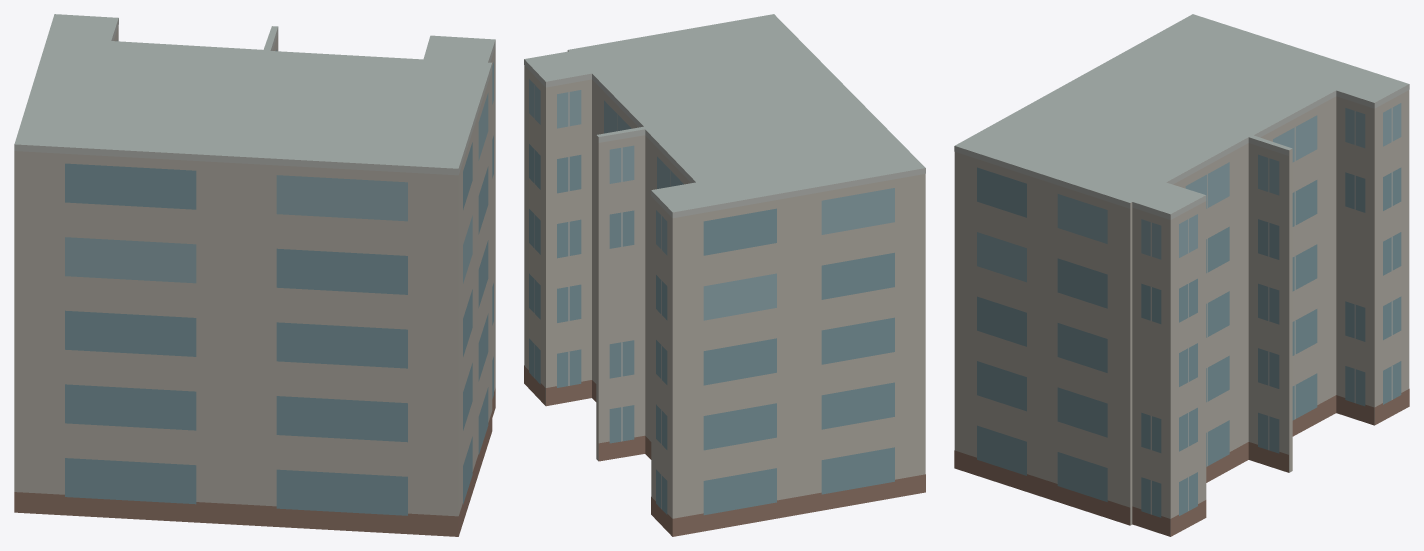
Rendered from survey-upis-32704588.glb.
3 renders of one model, left to right at view 1: azimuth 30°, elevation 25°; view 2: azimuth 150°, elevation 25°; view 3: azimuth 270°, elevation 25°, orthographic. The views are drawn at different scales.
Visible parts, largest first — view 1: survey-upis-32704588.tmp; view 2: survey-upis-32704588.tmp; view 3: survey-upis-32704588.tmp.
Boxes of the visible parts, x1,y1,x2,y2 form: survey-upis-32704588.tmp: [14, 14, 495, 536]; survey-upis-32704588.tmp: [524, 14, 925, 536]; survey-upis-32704588.tmp: [954, 14, 1409, 536].
Bounding box in the file's own units: 18.12 × 13.6 × 17.39.
